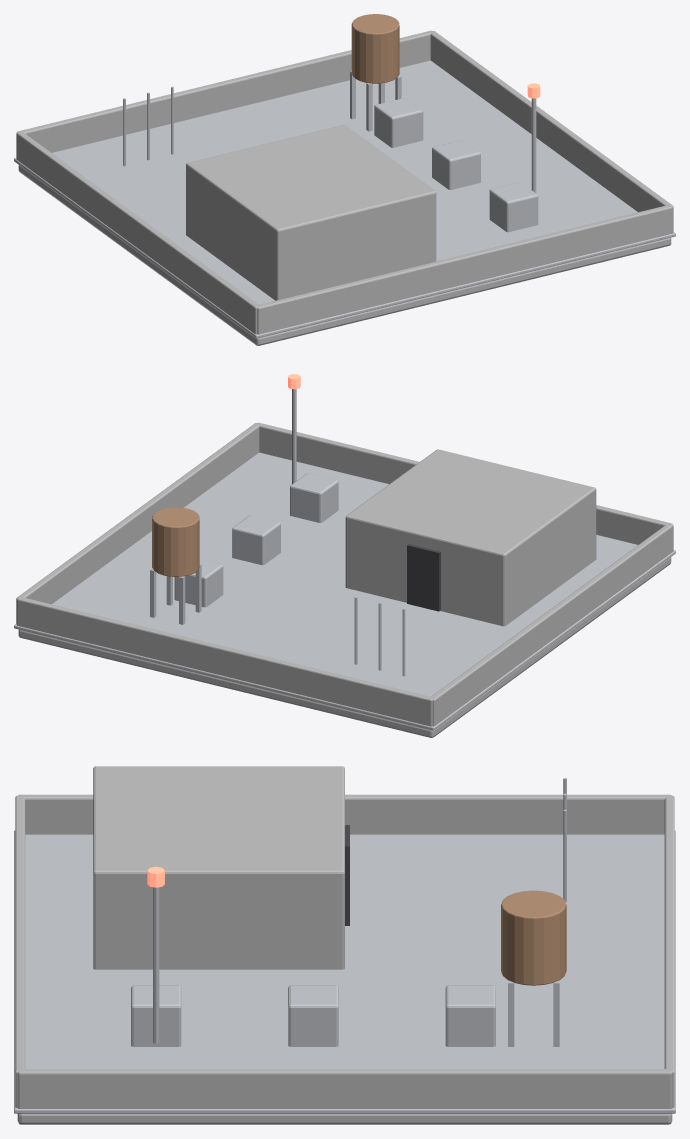
Rendered from roof_5x5_mech_concrete.glb.
3 renders of one model, top to bottom at view 1: azimuth 30°, elevation 25°; view 2: azimuth 150°, elevation 25°; view 3: azimuth 270°, elevation 25°, orthographic. The views are drawn at different scales.
Parts seen in each view (by area): view 1: int_slab_edge, ext_parapet, ext_penthouse, ext_ac, int_slab, ext_tank, ext_tank_legs, ext_mast; view 2: int_slab_edge, ext_parapet, ext_penthouse, ext_ac, int_slab, ext_tank, ext_penthouse_door, ext_tank_legs; view 3: int_slab_edge, ext_penthouse, ext_parapet, ext_ac, int_slab, ext_tank, ext_mast, ext_tank_legs.
Part boxes in pixels (<box>): int_slab_edge: <box>14,60,675,338</box>; ext_parapet: <box>16,30,673,334</box>; ext_penthouse: <box>186,125,436,300</box>; ext_ac: <box>374,98,538,232</box>; int_slab: <box>18,165,671,345</box>; ext_tank: <box>351,14,399,83</box>; ext_tank_legs: <box>350,70,401,131</box>; ext_mast: <box>531,98,536,192</box>; int_slab_edge: <box>14,452,675,730</box>; ext_parapet: <box>16,422,673,726</box>; ext_penthouse: <box>345,449,596,626</box>; ext_ac: <box>174,473,338,607</box>; int_slab: <box>18,557,671,737</box>; ext_tank: <box>152,507,199,576</box>; ext_penthouse_door: <box>407,544,440,611</box>; ext_tank_legs: <box>150,564,201,624</box>; int_slab_edge: <box>14,830,675,1113</box>; ext_penthouse: <box>93,766,344,969</box>; ext_parapet: <box>15,794,674,1108</box>; ext_ac: <box>131,985,495,1046</box>; int_slab: <box>17,1113,672,1124</box>; ext_tank: <box>501,890,566,985</box>; ext_mast: <box>153,887,159,1043</box>; ext_tank_legs: <box>508,980,559,1046</box>.
Bounding box in the file's own units: 5.26 × 1.73 × 5.26.
